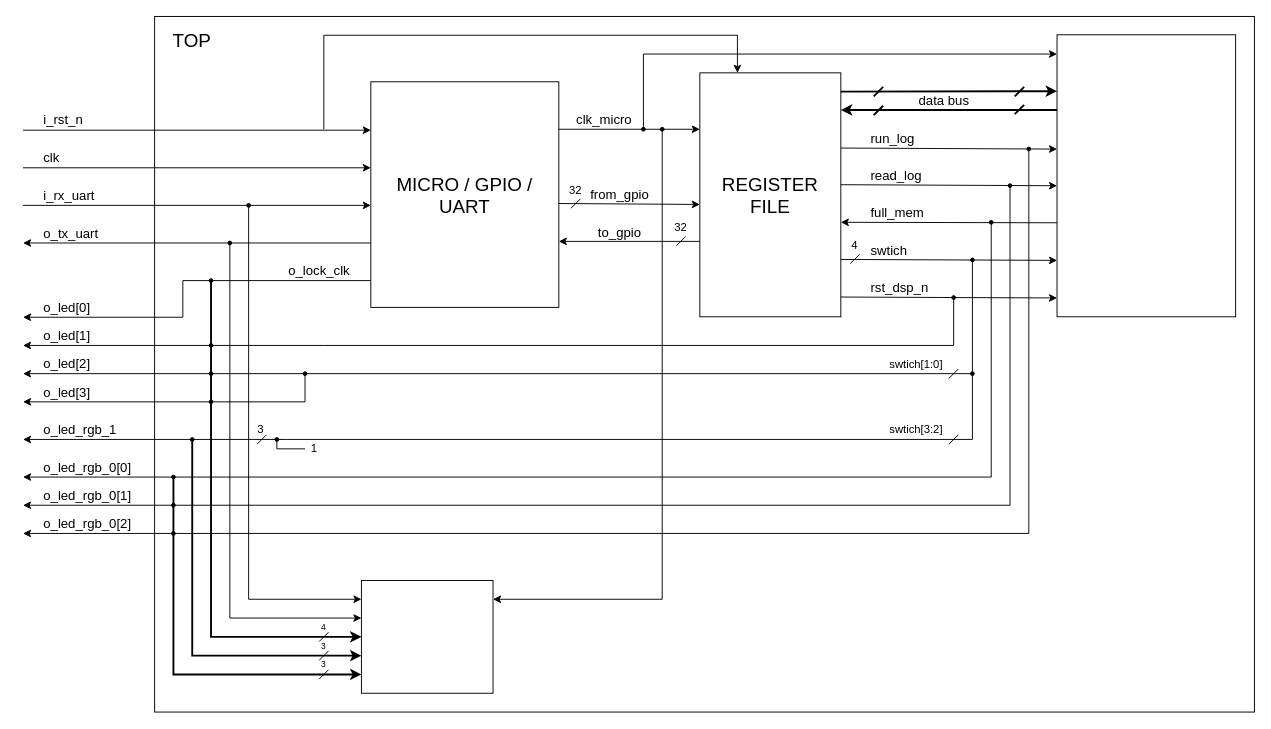
The diagram is 1271 pixels wide and 729 high, and some of its shapes have lost their labels. Each missing label, with the box of its shape:
DSP: (1056, 34, 1236, 317)
VIO: (360, 580, 493, 693)
